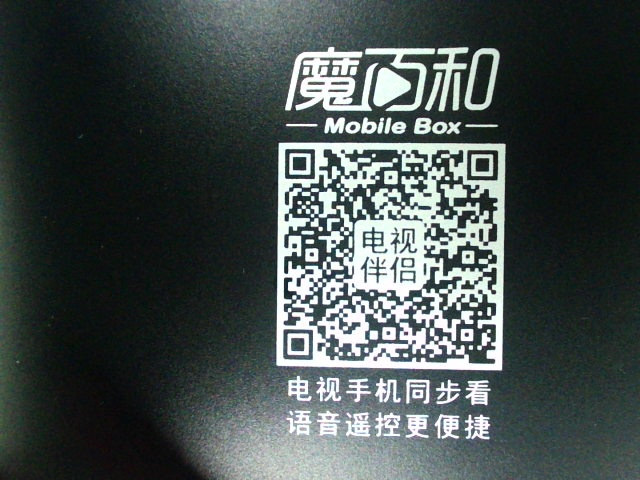AZ_MobileBox: (267, 39, 512, 442)
